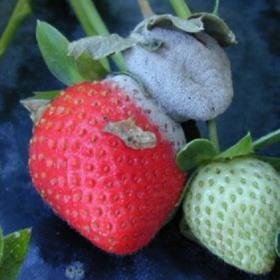Gray Mold: (67, 11, 241, 123), (87, 72, 187, 158)
